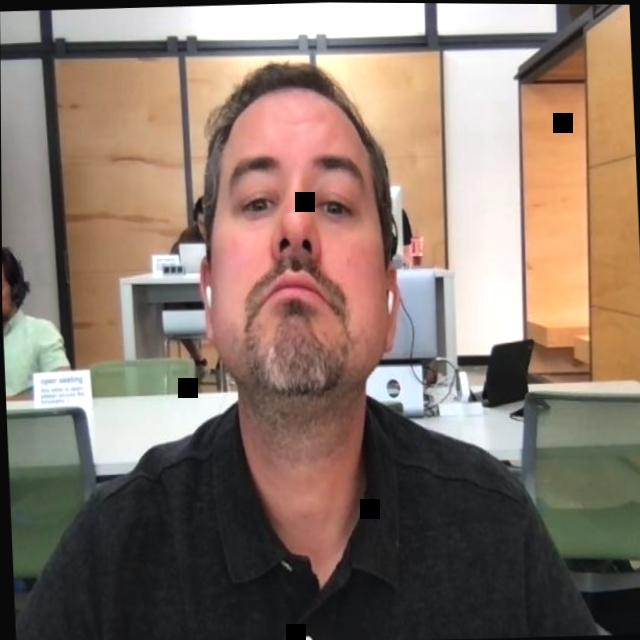NO-Mask: (193, 64, 402, 411), (1, 241, 28, 324)
